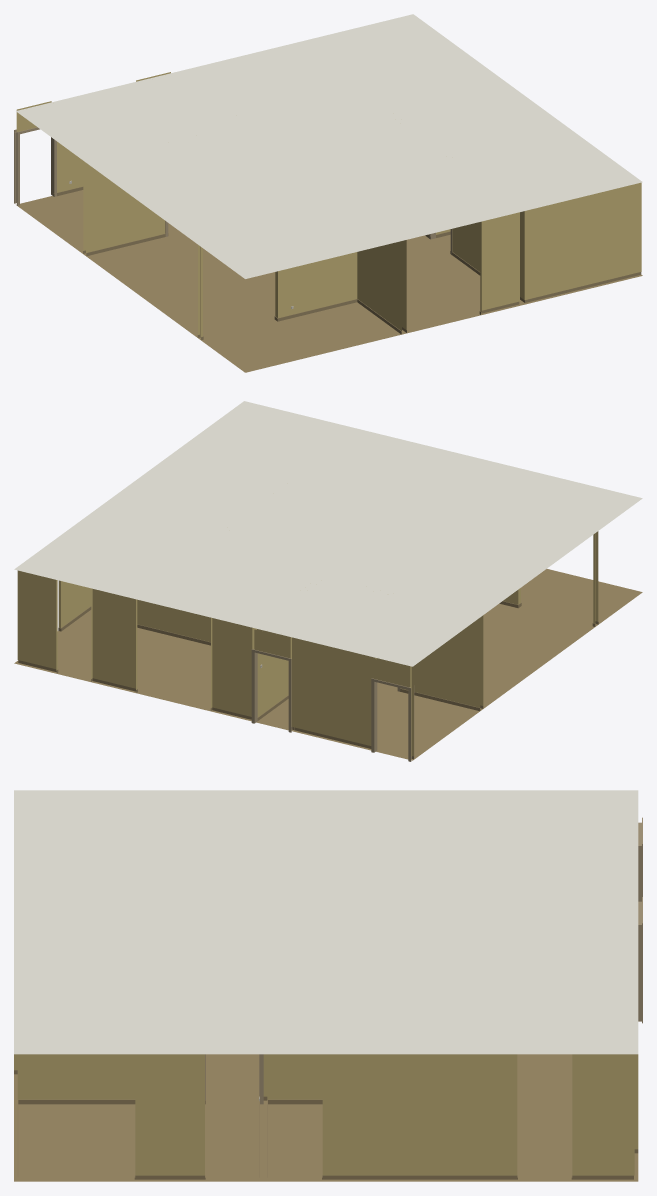
File: chunk_1_2.glb
3 views of the same model, one above another, from view 1: azimuth 30°, elevation 25°; view 2: azimuth 150°, elevation 25°; view 3: azimuth 270°, elevation 25° (orthographic). The views are drawn at different scales.
Visible parts, largest first — view 1: chunk_1_2; view 2: chunk_1_2; view 3: chunk_1_2.
Boxes of the visible parts, x1,y1,x2,y2 form: chunk_1_2: (14,14,642,372); chunk_1_2: (14,401,642,761); chunk_1_2: (14,790,642,1181).
Bounding box in the file's own units: 12.03 × 2.7 × 12.09.
